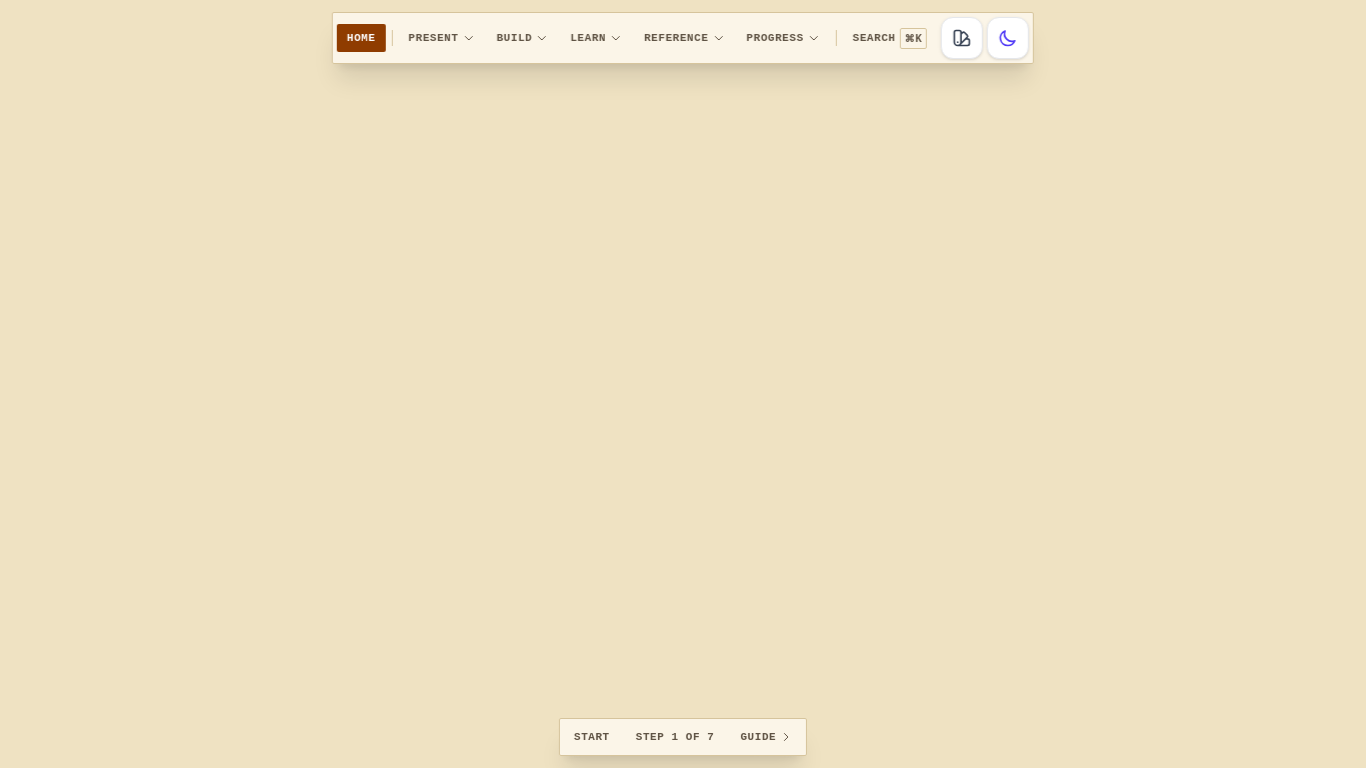
Test case: CommandPalette › filters results by query
Press k
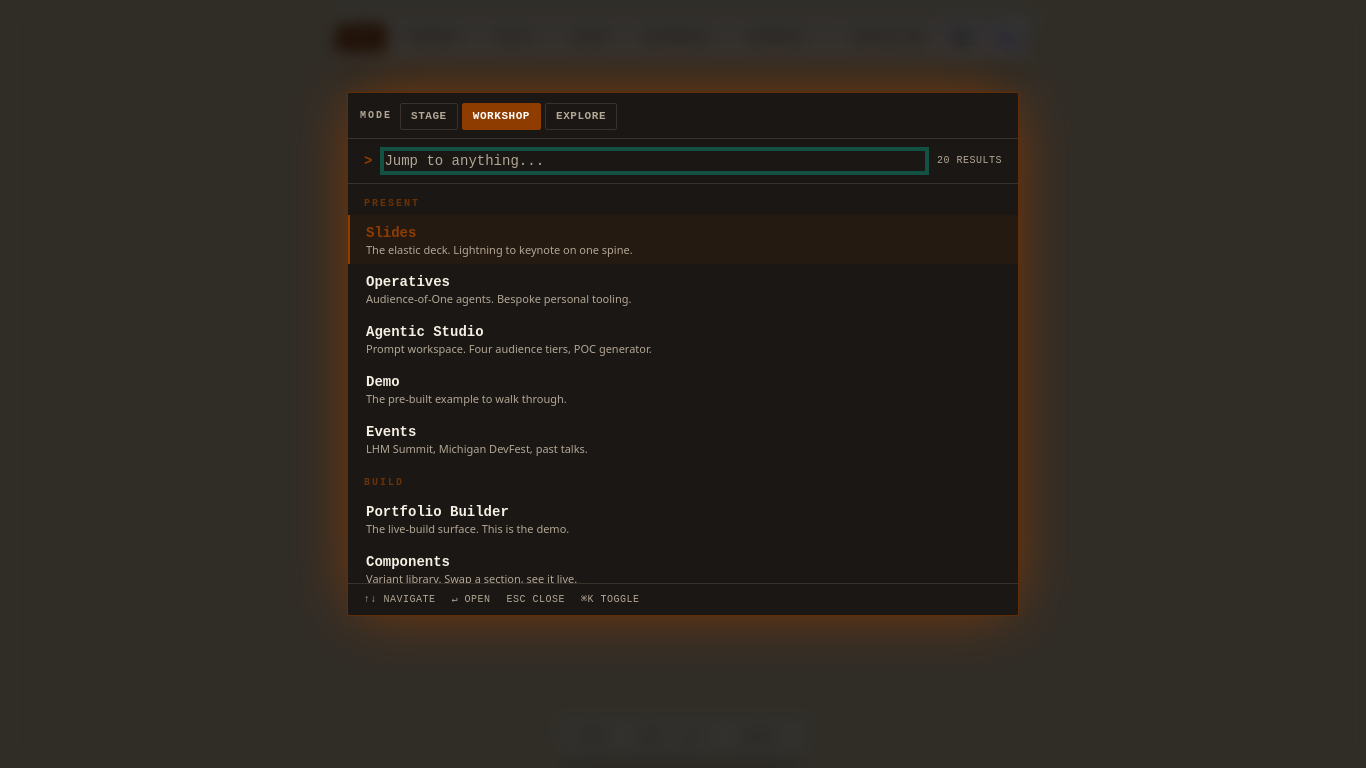
Type "telemetry" into the dropdown at (655, 161), box [384, 151, 925, 171]
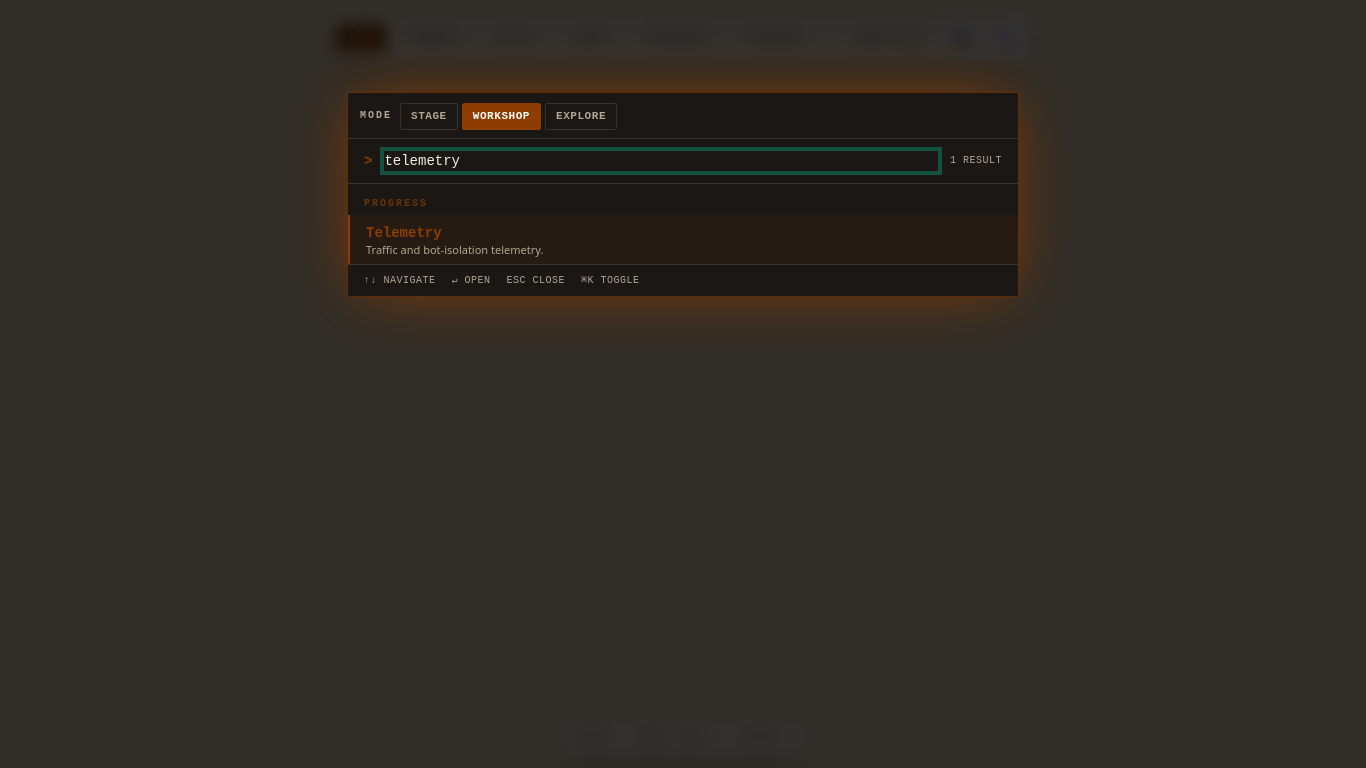
Result: the number of options is 1 at [348, 215, 1018, 264]
Result: the option shows "Telemetry" at [348, 215, 1018, 264]
